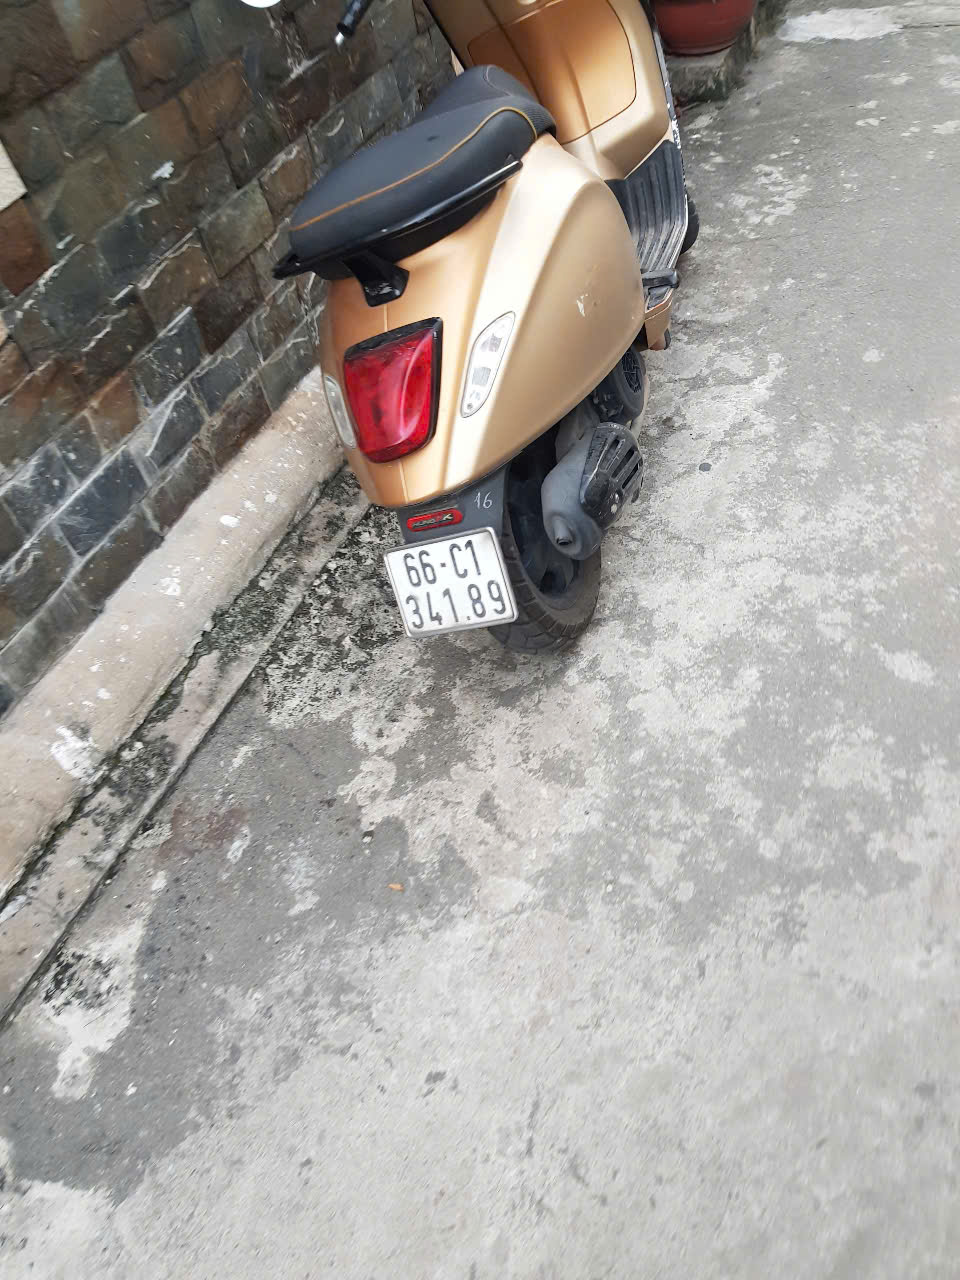bien_so: (383, 530, 515, 637)
